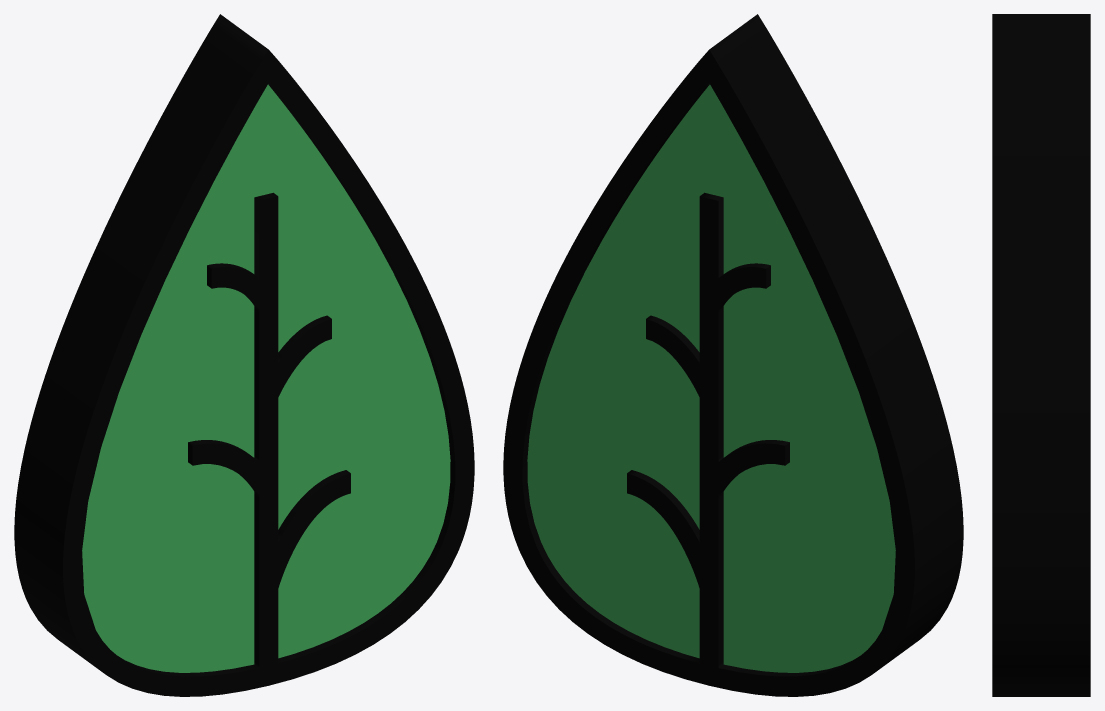
File: Leaf.fbx
The picture shows the model from 3 angles, left to right: view 1: azimuth 30°, elevation 25°; view 2: azimuth 150°, elevation 25°; view 3: azimuth 270°, elevation 25°; orthographic projection.
Parts seen in each view (by area): view 1: Curve, Curve.001; view 2: Curve, Curve.001; view 3: Curve.001.
Part boxes in pixels (x1=…): Curve: x1=82, y1=84, x2=450, y2=672; Curve.001: x1=14, y1=14, x2=474, y2=696; Curve: x1=527, y1=84, x2=895, y2=672; Curve.001: x1=503, y1=14, x2=963, y2=696; Curve.001: x1=992, y1=14, x2=1090, y2=696.
Bounding box in the file's own units: 97.82 × 144 × 20.
